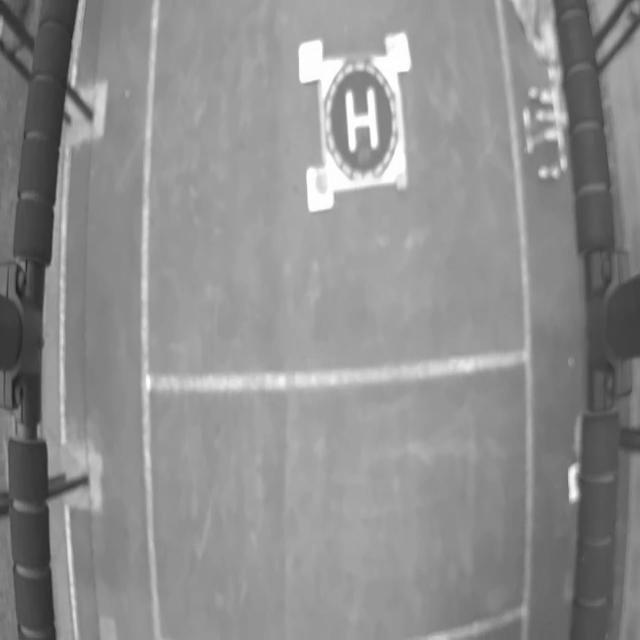Helipad: (345, 87, 379, 153)
